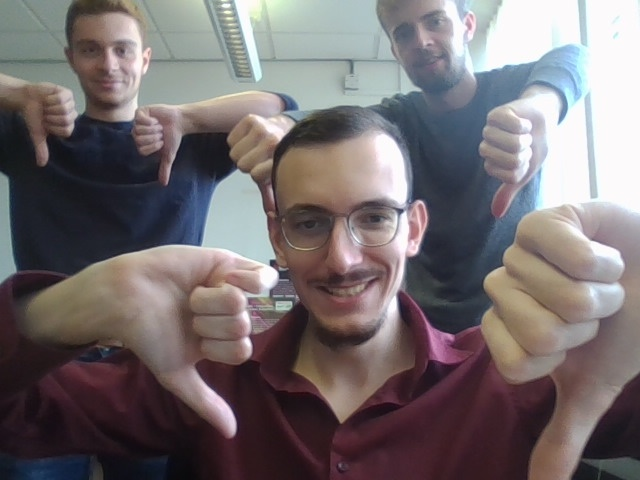thumbdown: (479, 198, 640, 480), (111, 242, 277, 440), (479, 102, 548, 216), (19, 80, 76, 165), (130, 103, 186, 185)
